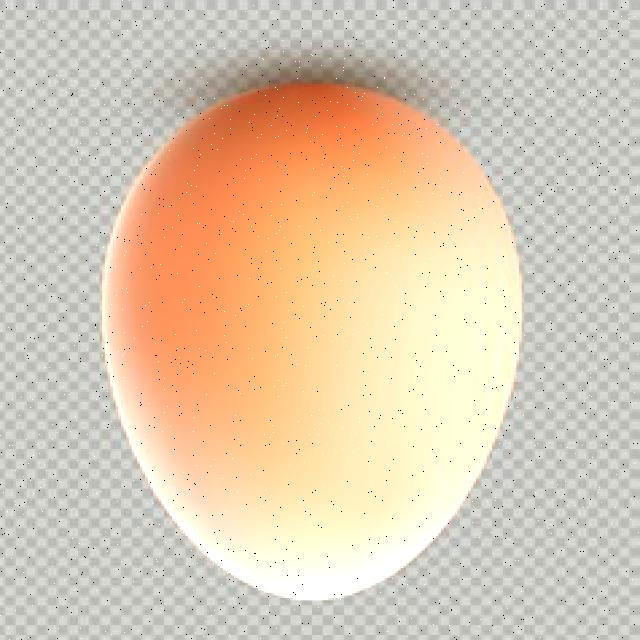Brown Egg: (101, 68, 523, 608)
